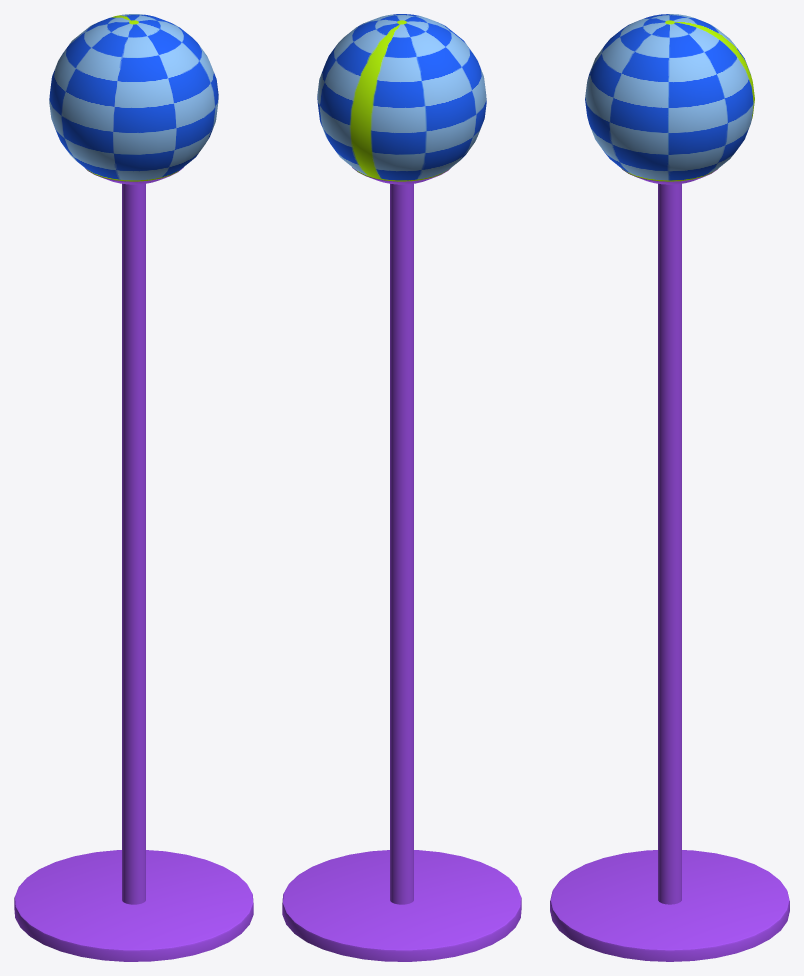
The model's file is LightFloor02_1.FBX.
The picture shows the model from 3 angles, left to right: view 1: azimuth 30°, elevation 25°; view 2: azimuth 150°, elevation 25°; view 3: azimuth 270°, elevation 25°; orthographic projection.
Parts seen in each view (by area): view 1: LightFloor02_1; view 2: LightFloor02_1; view 3: LightFloor02_1.
Part boxes in pixels (left/top/right/bottom): LightFloor02_1: left=14, top=14, right=253, bottom=961; LightFloor02_1: left=282, top=14, right=521, bottom=961; LightFloor02_1: left=550, top=14, right=789, bottom=961.
Size of the model in its own units: 36.65 by 150 by 36.65.
